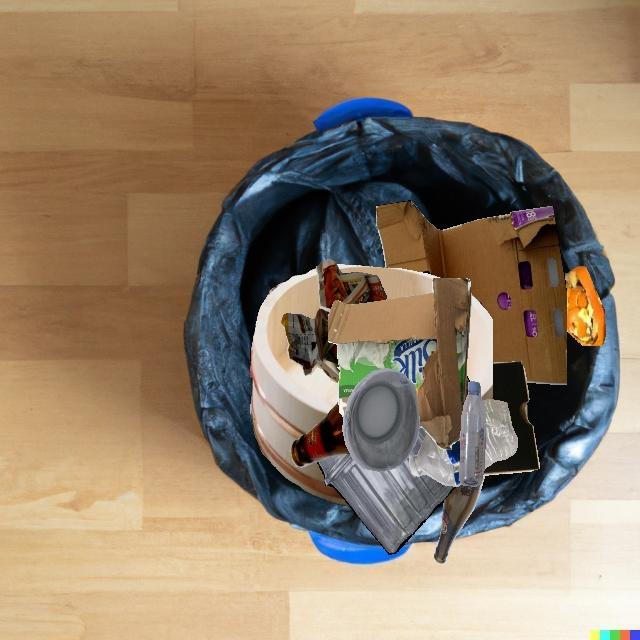biowaste: (564, 266, 606, 346)
cardboard: (376, 200, 567, 385), (328, 278, 471, 450), (483, 361, 540, 475)
combustible waste: (323, 264, 481, 399), (250, 376, 350, 507)
glass: (434, 475, 485, 564), (290, 401, 350, 468)
paper: (281, 259, 387, 383), (524, 403, 528, 420)
plastic: (317, 427, 456, 555), (343, 368, 420, 472), (459, 381, 486, 486), (409, 434, 461, 487), (482, 399, 518, 469)
